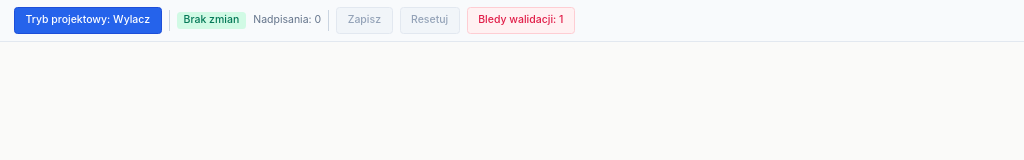
Test case: ProjectModeToolbar › should toggle error panel on click
# Click errors button
Click the button with test id "project-mode-errors-toggle".
click(521, 20)  # box [467, 7, 575, 34]
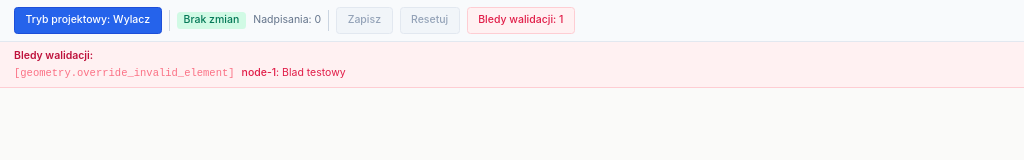
Expected: the element with test id "project-mode-errors-panel" is shown, [0, 42, 1023, 88]
Expected: the list item with test id "project-mode-error-item-0" is shown, [14, 66, 346, 79]
